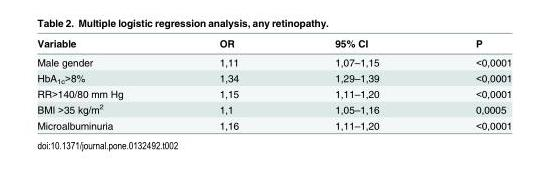table: (36, 36, 511, 130)
table column: (286, 36, 426, 130), (36, 36, 170, 130), (170, 36, 286, 130), (426, 36, 511, 130)
table column header: (36, 36, 511, 52)
table row: (36, 52, 511, 69), (36, 69, 511, 86), (36, 100, 511, 117), (36, 36, 511, 52), (36, 86, 511, 100), (36, 117, 511, 130)
